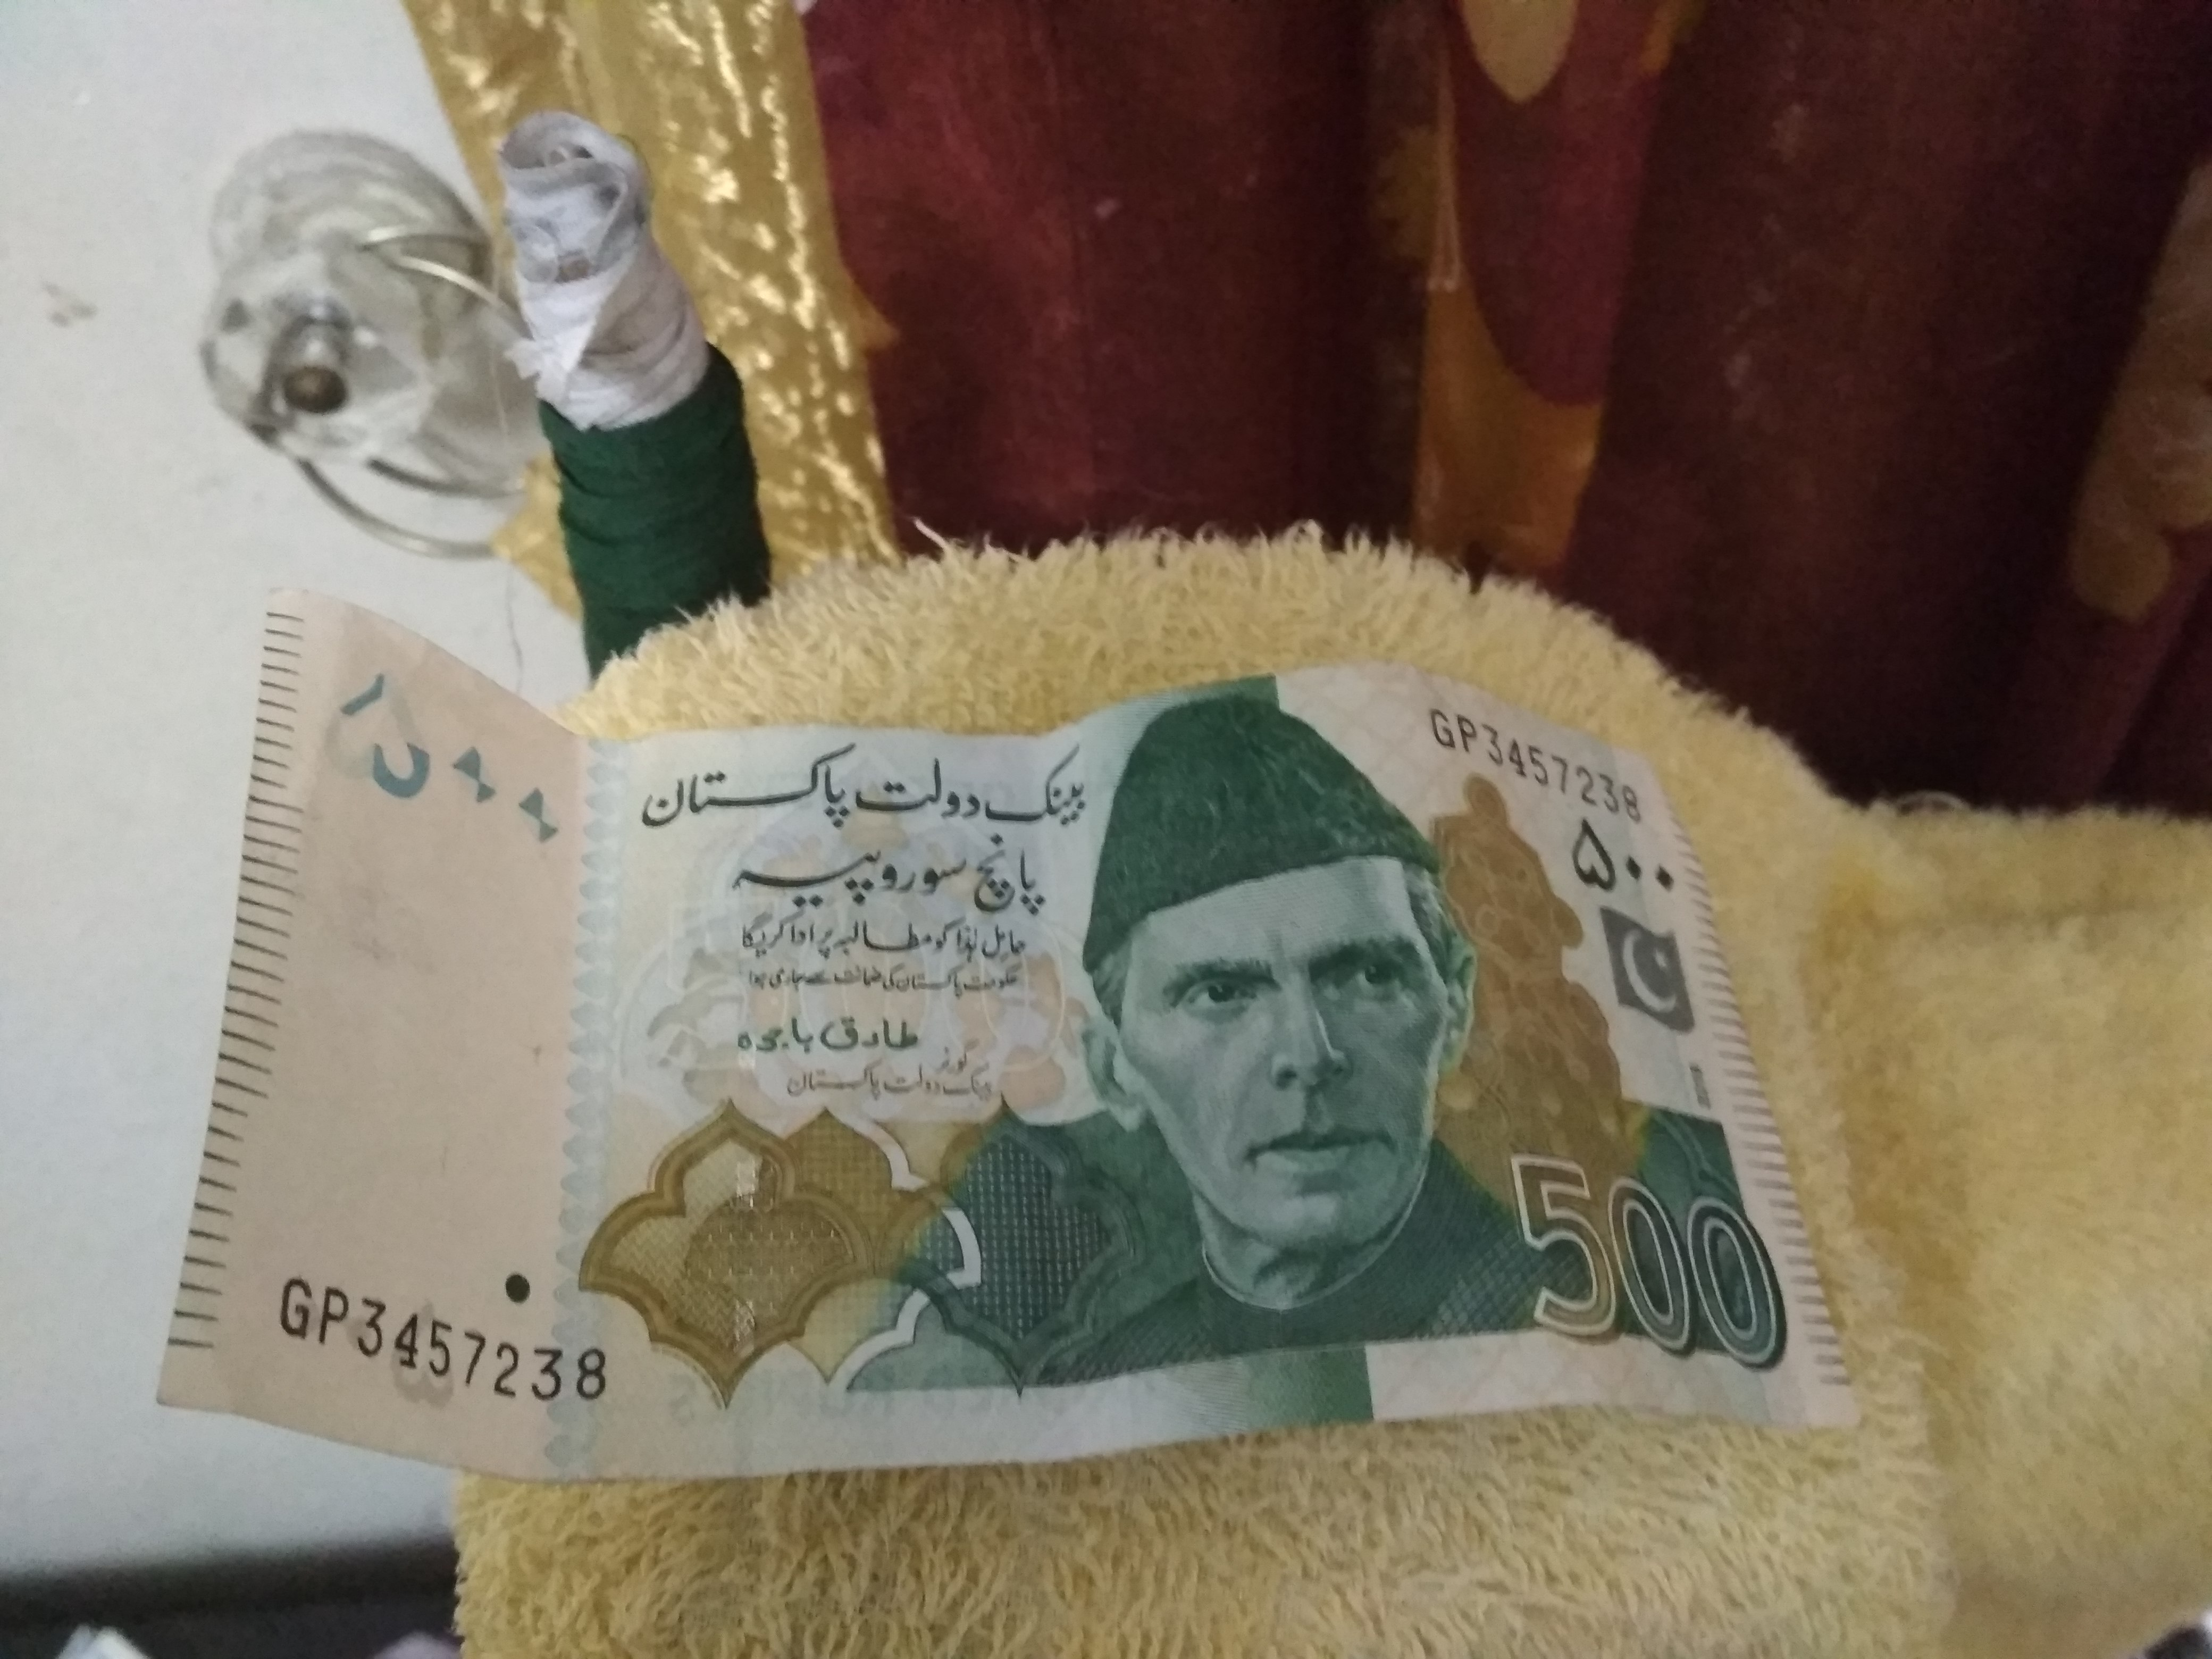500 rupee: (223, 505, 1841, 1525)
